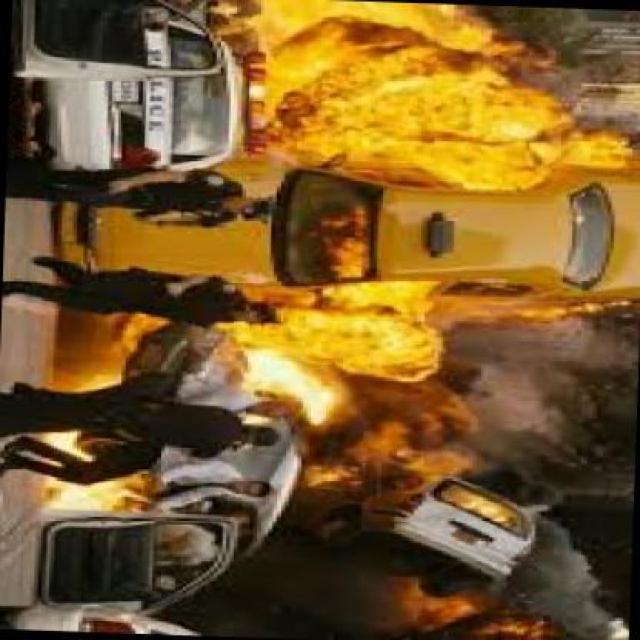Fire: (193, 0, 639, 197), (225, 203, 460, 397), (304, 394, 506, 534), (390, 571, 544, 640)
Smoke: (469, 319, 640, 514), (524, 518, 634, 640)
